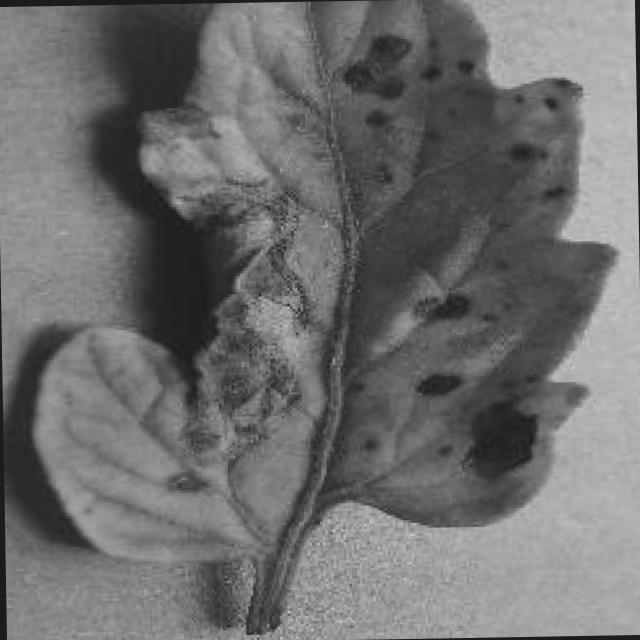leaf blight: (34, 0, 623, 628)
